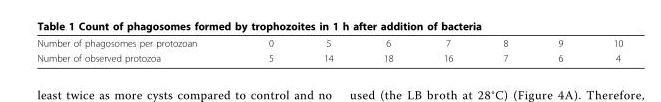table: (36, 37, 622, 63)
table column: (36, 37, 232, 63), (232, 37, 297, 63), (297, 37, 357, 63), (357, 37, 417, 63), (417, 37, 477, 63), (477, 37, 532, 63), (532, 37, 587, 63), (587, 37, 622, 63)
table row: (36, 37, 622, 50), (36, 50, 622, 63)
